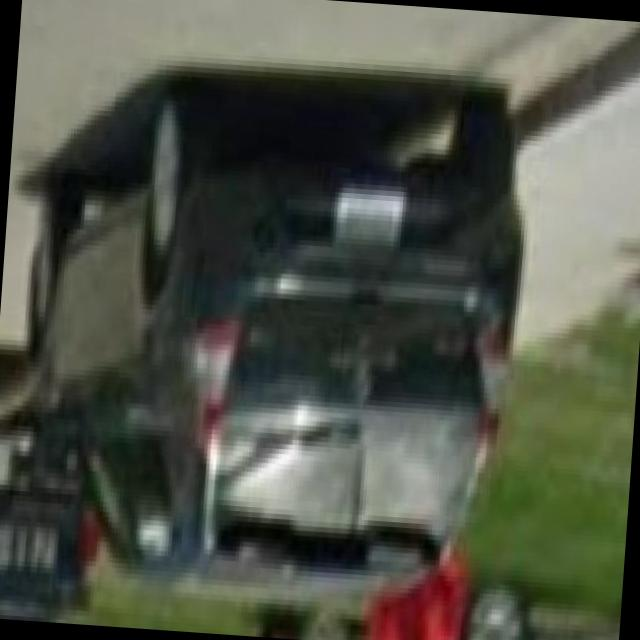car: (3, 54, 523, 604)
